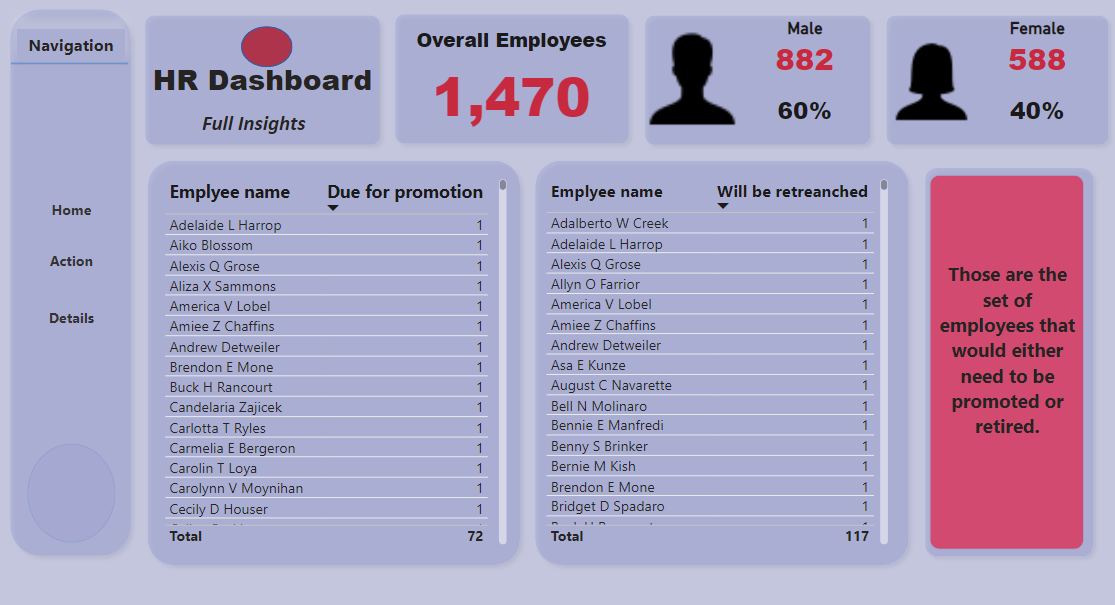

The dashboard page shown, as its layout file describes it:
{"tool":"powerbi","page":{"name":"Action","canvas":[1280,720],"ordinal":2},"visuals":[{"type":"shape","box":[1028.6,166.2,207,530.1],"z":0},{"type":"shape","box":[16.5,9.6,166.5,699.2],"z":1000},{"type":"shape","box":[195.4,12.4,264.3,143.1],"z":2000},{"type":"shape","box":[459.7,12.4,264.3,143.1],"z":3000},{"type":"shape","box":[724,12.4,264.3,143.1],"z":4000},{"type":"shape","box":[988.2,12.4,264.3,143.1],"z":5000},{"type":"textbox","box":[209.7,71.2,238.7,51.4],"z":6000},{"type":"textbox","box":[36.9,33,130.5,51.4],"z":7000},{"type":"textbox","box":[209.7,97.6,251.9,55.4],"z":8000},{"type":"shape","box":[305.9,33,40.9,39.6],"z":9000},{"type":"textbox","box":[1029.3,299.6,206.6,217.4],"z":10000},{"type":"shape","box":[30.2,61.6,140.1,15.7],"z":11000},{"type":"textbox","box":[184.4,280.8,829.9,254.6],"z":12000}]}

Visuals, with their boxes on the page's 1280x720 design canvas (x1, y1, x2, y2). These are canvas units, not pixel positions in the 1115x605 screenshot, which may show the page scaled, cropped or inside an application window:
shape: <bbox>1029, 166, 1236, 696</bbox>
shape: <bbox>16, 10, 183, 709</bbox>
shape: <bbox>195, 12, 460, 156</bbox>
shape: <bbox>460, 12, 724, 156</bbox>
shape: <bbox>724, 12, 988, 156</bbox>
shape: <bbox>988, 12, 1252, 156</bbox>
textbox: <bbox>210, 71, 448, 123</bbox>
textbox: <bbox>37, 33, 167, 84</bbox>
textbox: <bbox>210, 98, 462, 153</bbox>
shape: <bbox>306, 33, 347, 73</bbox>
textbox: <bbox>1029, 300, 1236, 517</bbox>
shape: <bbox>30, 62, 170, 77</bbox>
textbox: <bbox>184, 281, 1014, 535</bbox>
